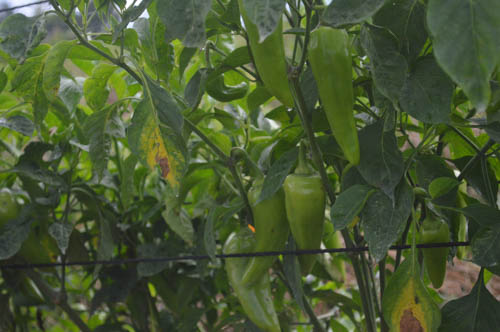ChiliPepper: (311, 27, 360, 163), (226, 234, 279, 327), (241, 185, 284, 289), (284, 176, 327, 275), (244, 30, 294, 107), (419, 227, 450, 288)
